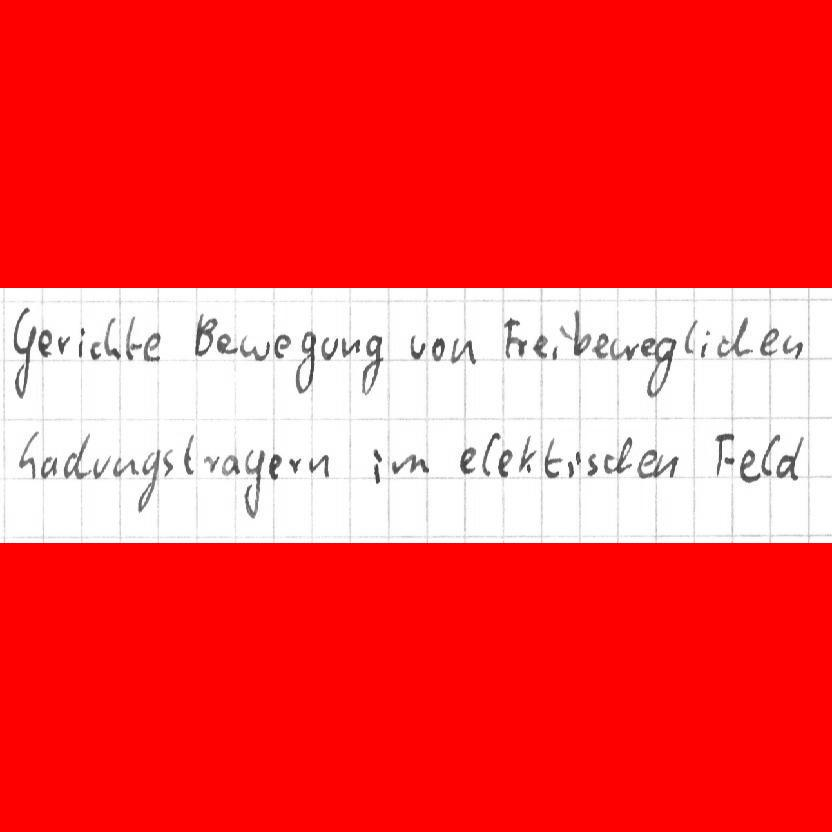Char: (11, 305, 37, 401), (645, 334, 675, 403), (135, 447, 162, 515), (242, 444, 263, 520), (294, 332, 318, 394), (360, 334, 383, 396), (779, 432, 804, 481), (724, 317, 753, 359), (64, 433, 90, 478), (605, 435, 633, 476), (500, 315, 525, 360), (16, 429, 38, 478), (711, 430, 734, 475), (192, 311, 215, 356), (449, 333, 479, 367), (569, 308, 590, 355), (481, 429, 499, 479), (542, 434, 562, 479), (392, 452, 428, 477), (239, 334, 272, 361), (518, 432, 538, 476), (760, 433, 779, 478), (737, 447, 758, 485), (105, 316, 121, 361), (682, 318, 699, 358), (124, 316, 139, 361), (635, 449, 658, 478), (758, 328, 780, 358), (457, 444, 478, 475), (611, 338, 638, 362), (142, 330, 162, 362), (781, 334, 805, 360), (111, 453, 135, 478), (183, 433, 197, 474), (656, 454, 678, 480), (307, 452, 329, 478), (272, 331, 291, 361), (407, 333, 427, 361), (215, 334, 239, 356), (340, 334, 361, 359), (321, 334, 341, 360), (593, 330, 610, 360), (371, 448, 384, 486), (496, 448, 513, 477), (38, 329, 54, 359), (532, 332, 549, 360), (429, 335, 446, 363), (551, 331, 567, 360), (566, 450, 581, 480), (218, 454, 239, 475), (91, 454, 109, 478), (55, 332, 71, 358), (41, 455, 59, 477), (161, 447, 174, 476), (77, 327, 88, 361), (700, 327, 712, 358), (716, 334, 731, 358), (268, 453, 282, 478), (286, 455, 303, 475), (201, 452, 217, 473), (639, 336, 655, 357), (585, 454, 600, 476), (88, 342, 105, 361)
